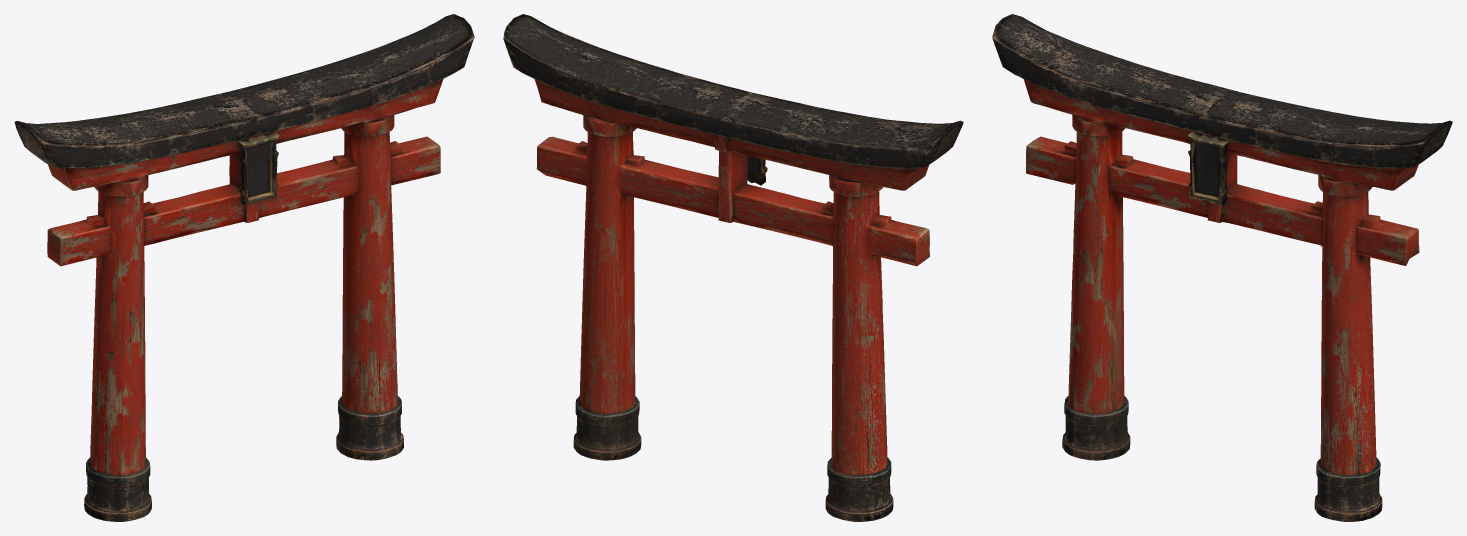
Rendered from torii.glb.
3 views of the same model, side by side, from view 1: azimuth 30°, elevation 25°; view 2: azimuth 150°, elevation 25°; view 3: azimuth 330°, elevation 25° (orthographic).
Visible parts, largest first — view 1: torii gate 3d model; view 2: torii gate 3d model; view 3: torii gate 3d model.
Boxes of the visible parts, <box> form: torii gate 3d model: <box>14,14,474,521</box>; torii gate 3d model: <box>503,14,963,521</box>; torii gate 3d model: <box>992,14,1452,521</box>.
Bounding box in the file's own units: 5.11 × 4.5 × 0.7296.
1 material, 1 textured.
